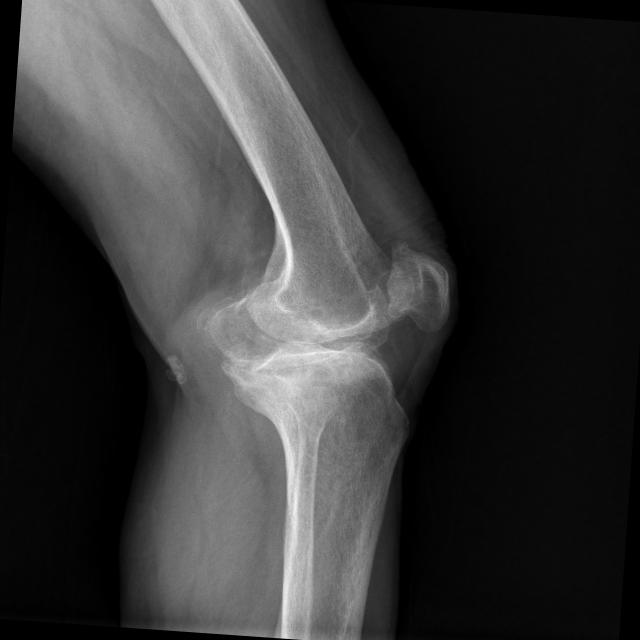Knee: (189, 225, 454, 434)
